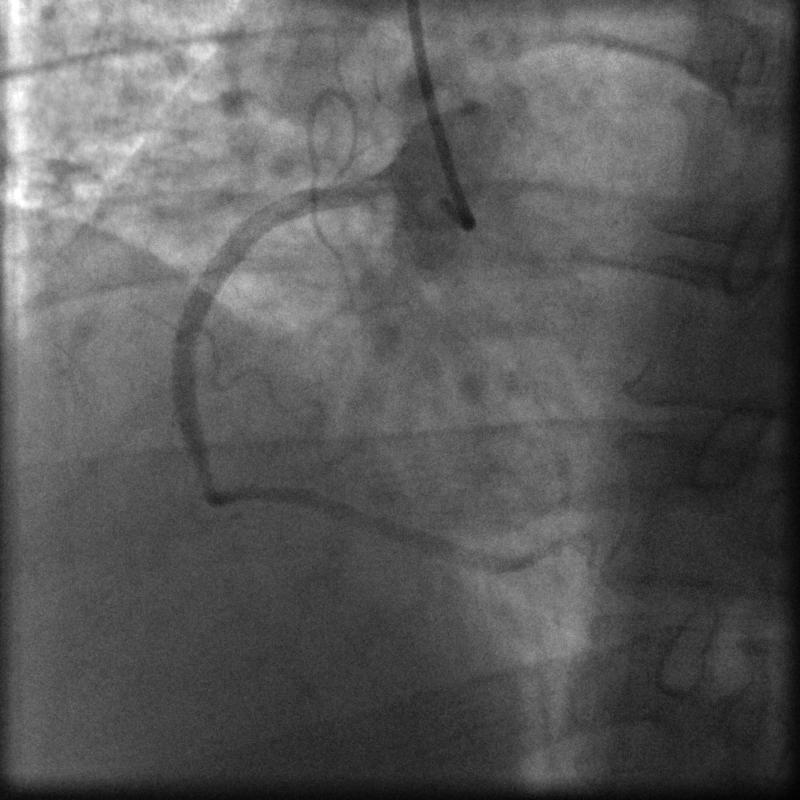Stenosis: (182, 434, 218, 505)
